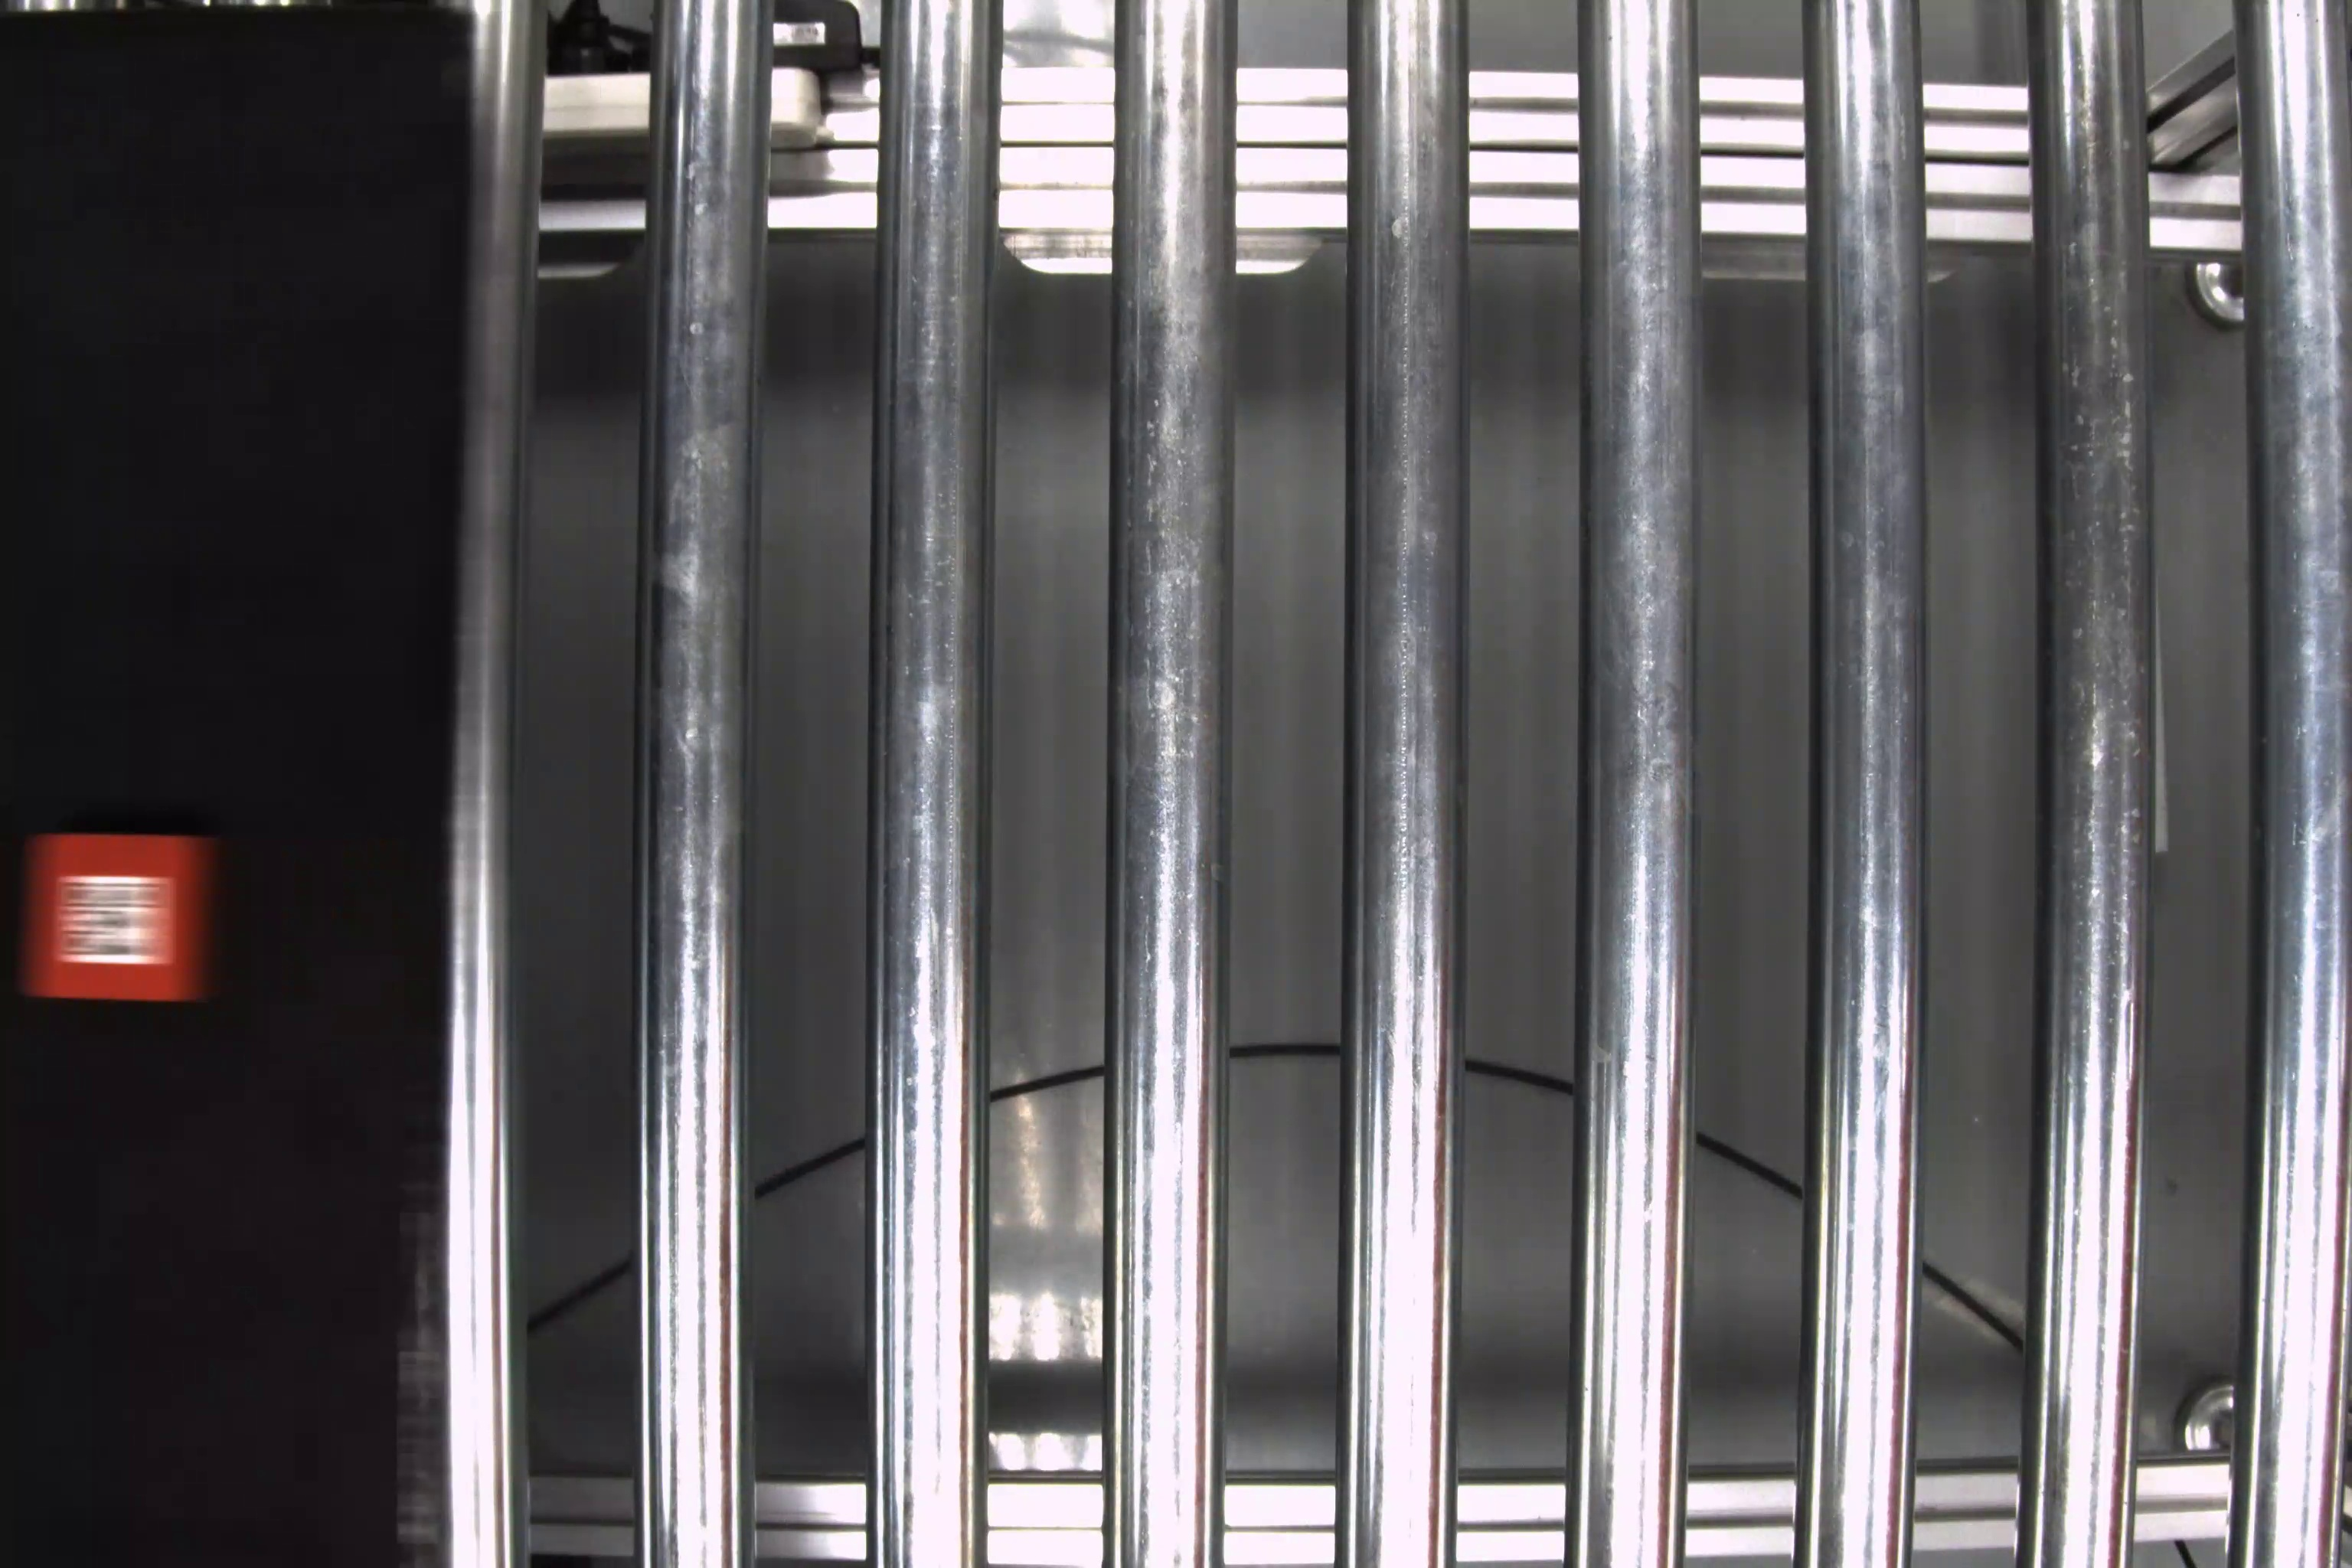wood: (24, 833, 234, 1011)
